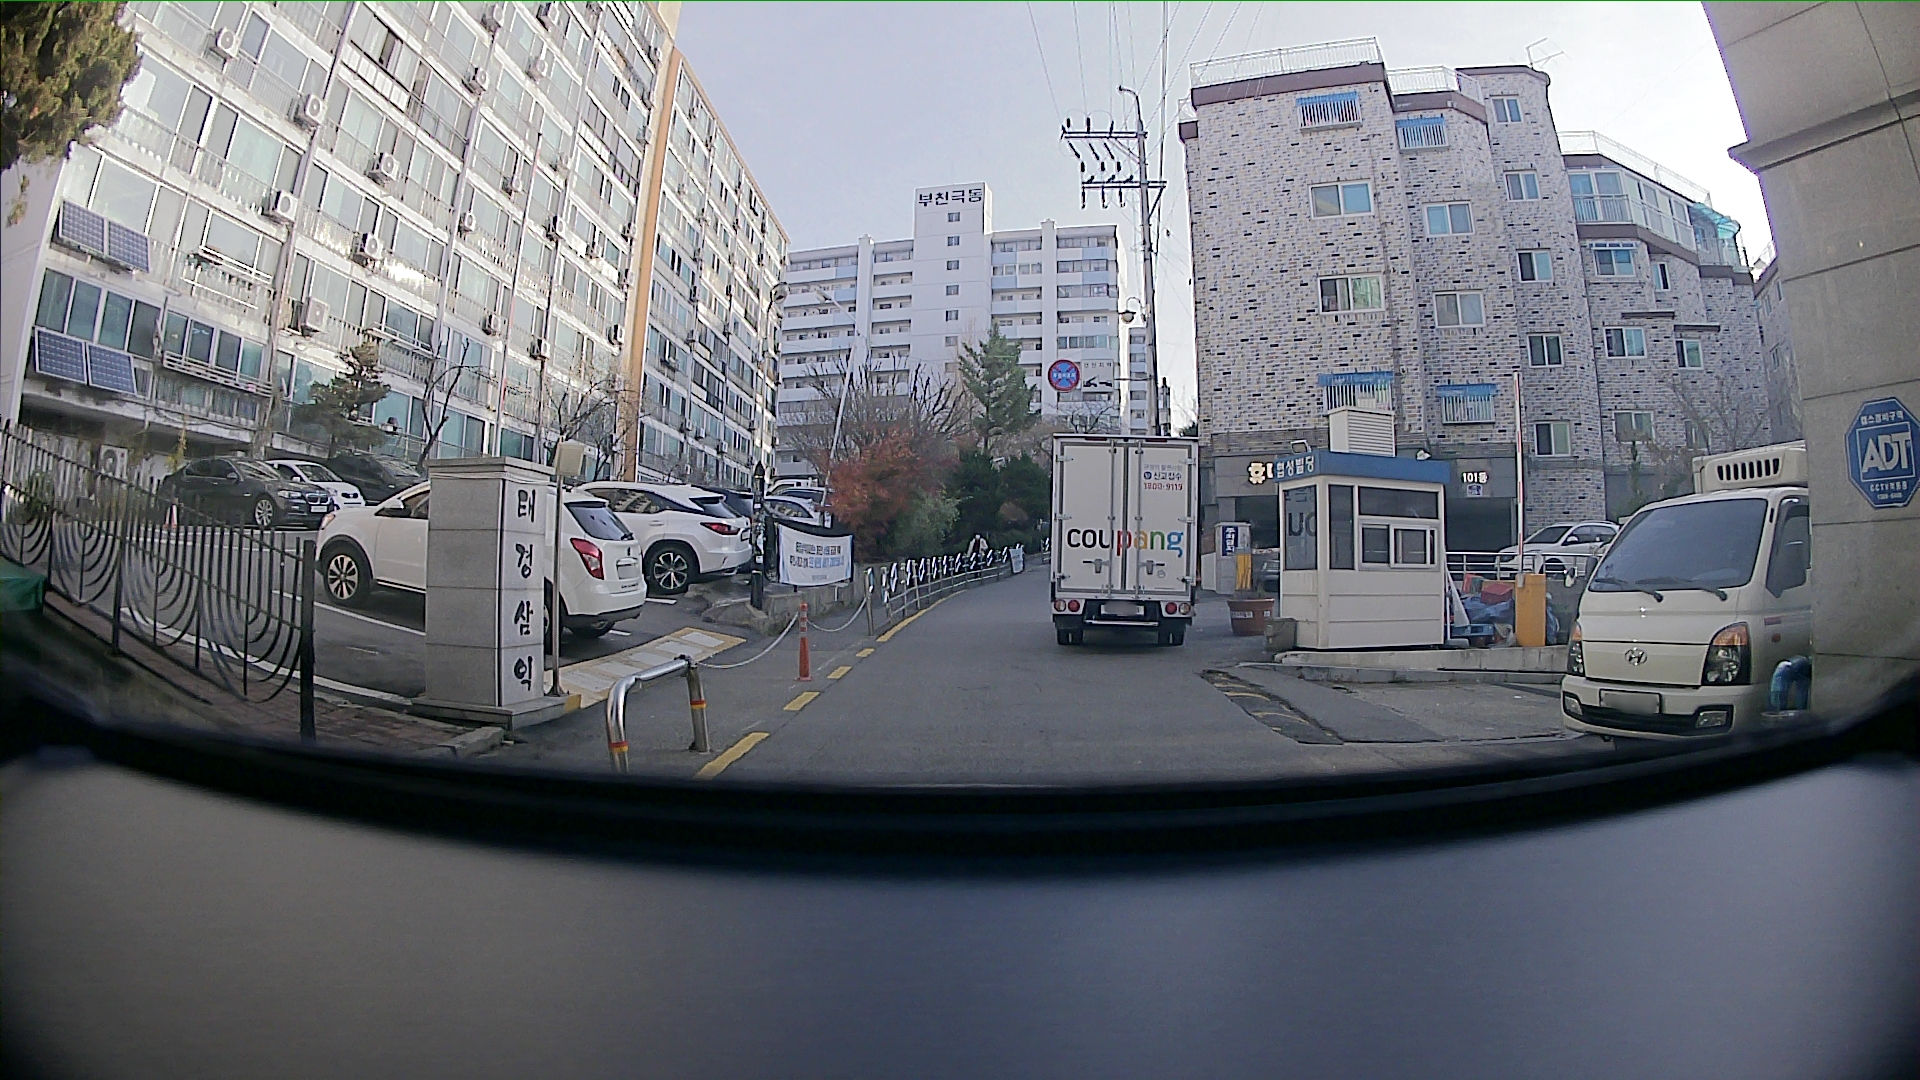trafficSignCircle: (1047, 355, 1081, 392)
